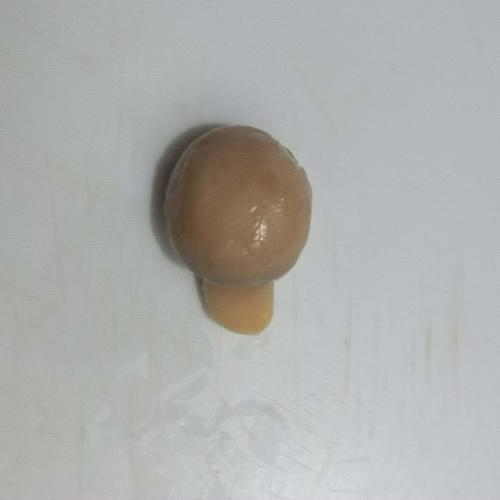Button Mushroom: (122, 104, 341, 344)
